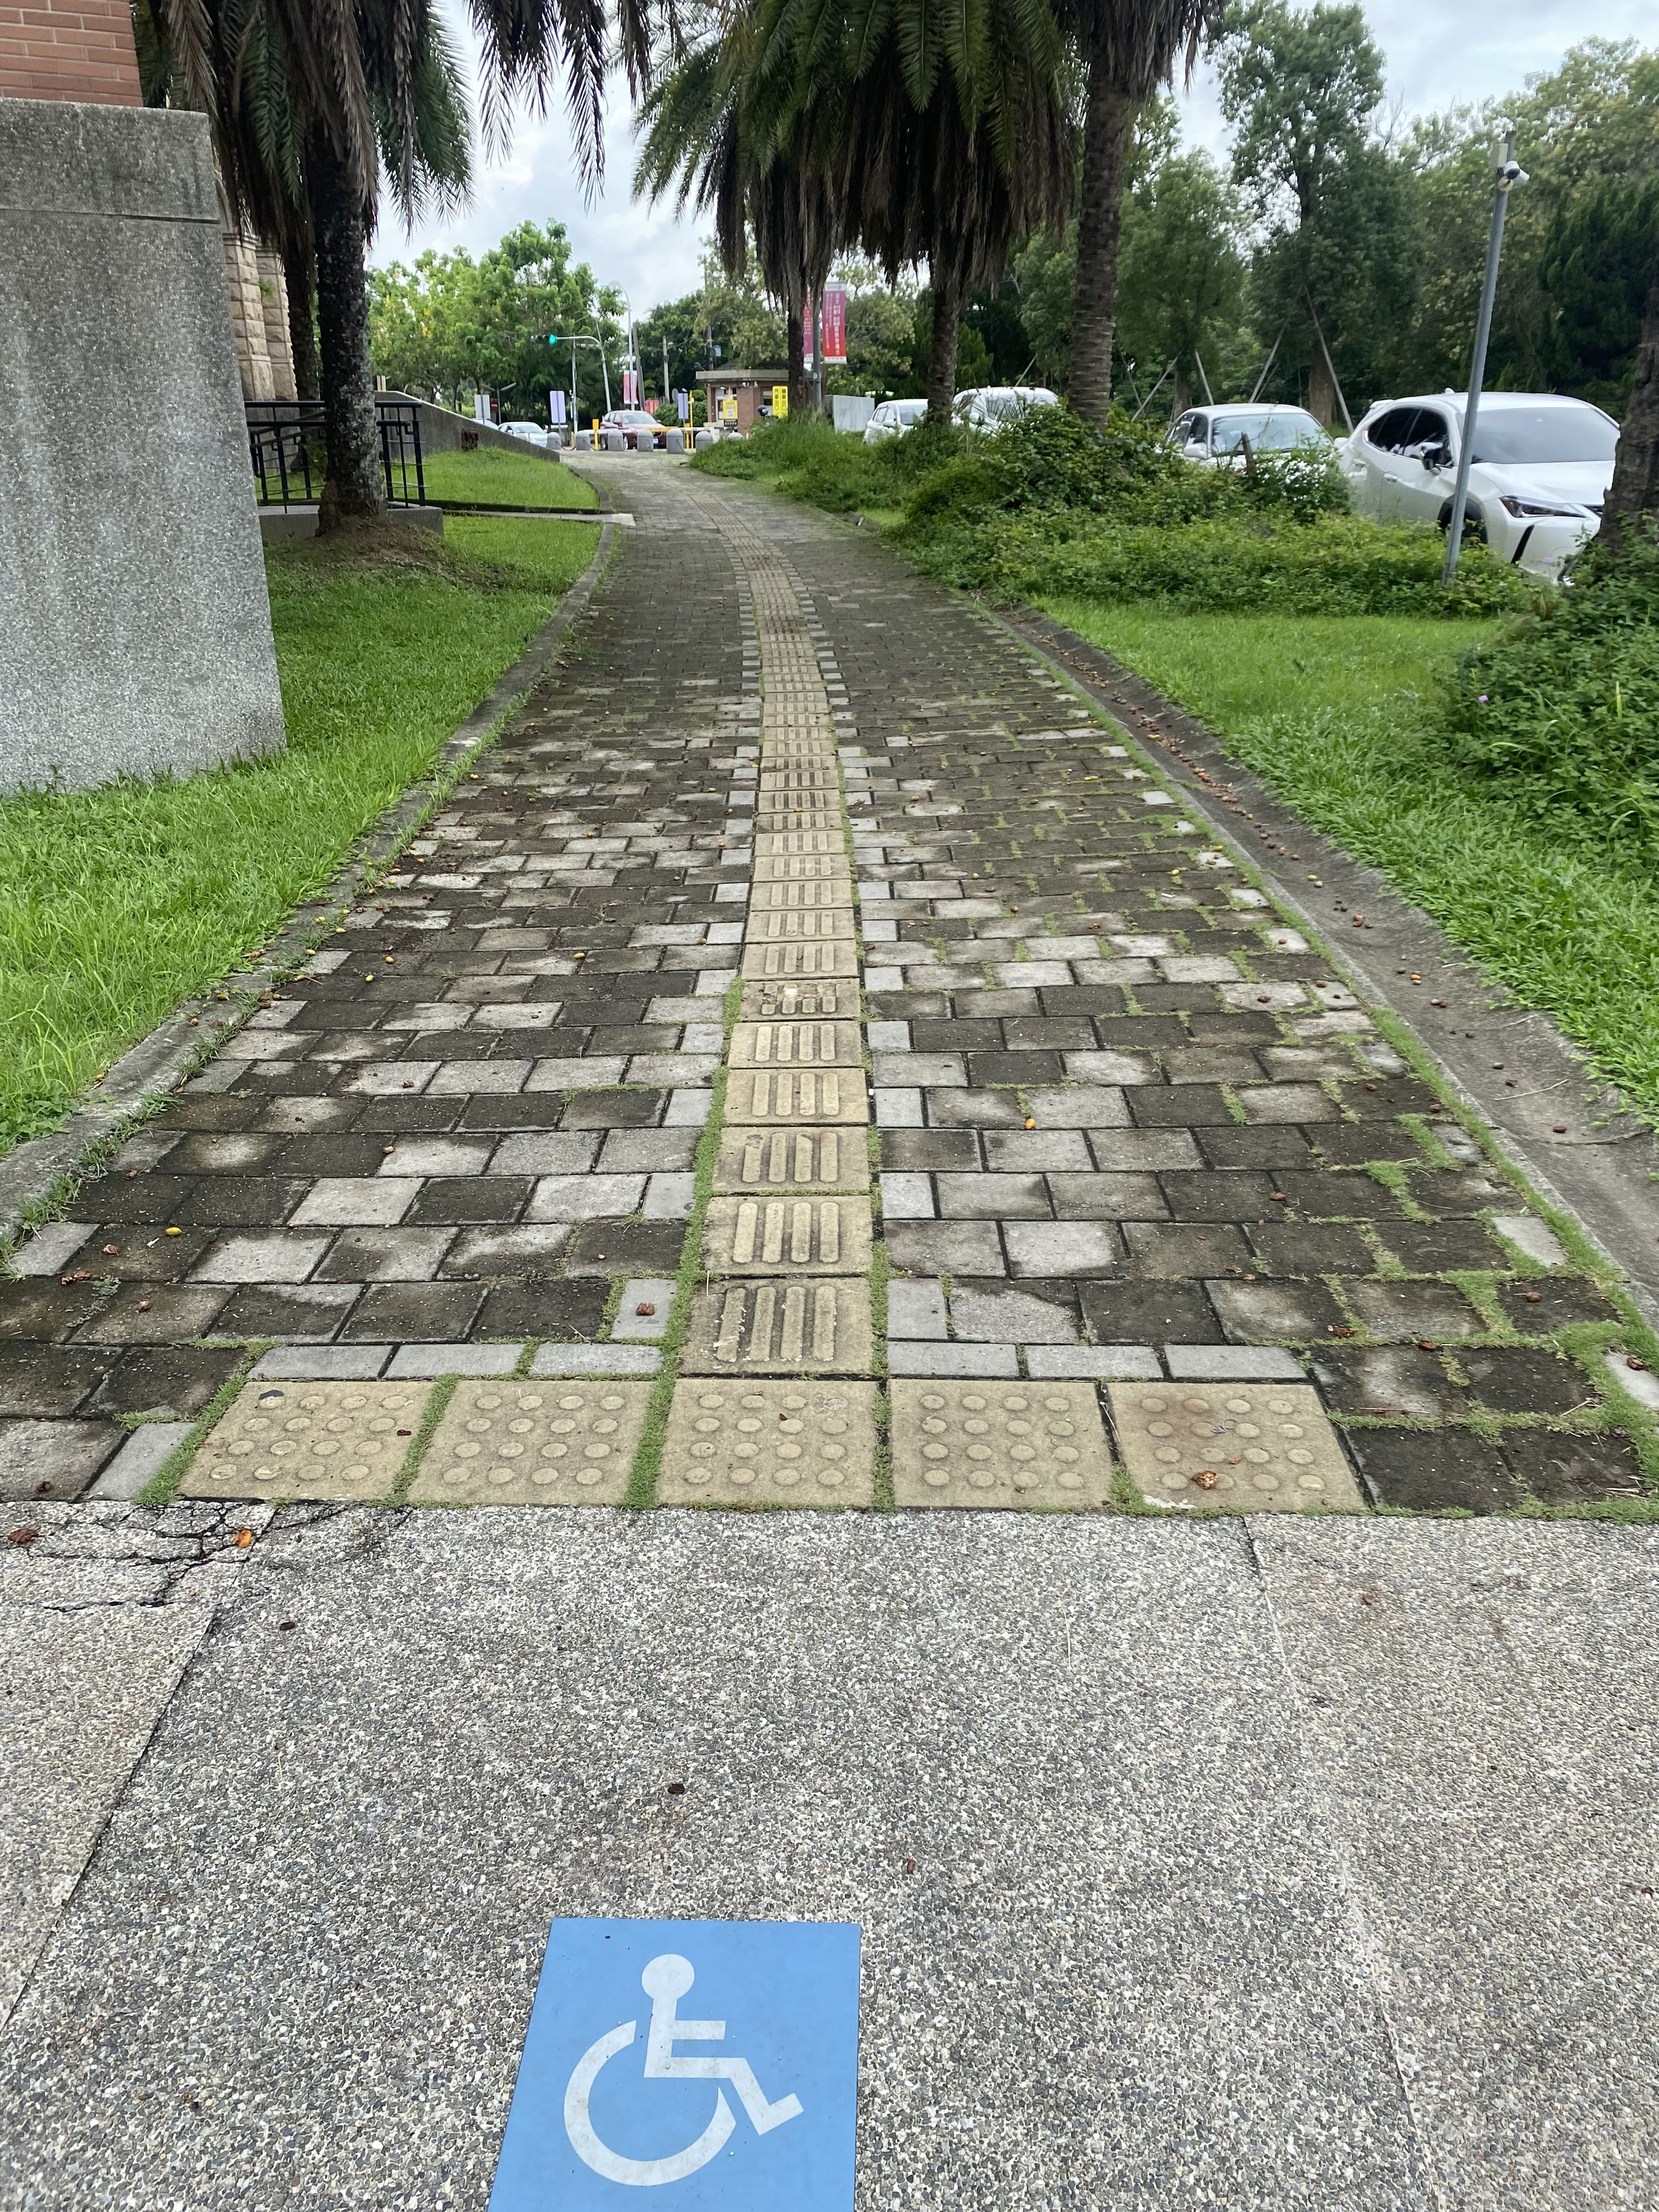0: (0, 914, 1659, 2212)
sidewalk: (308, 425, 1422, 1296)
